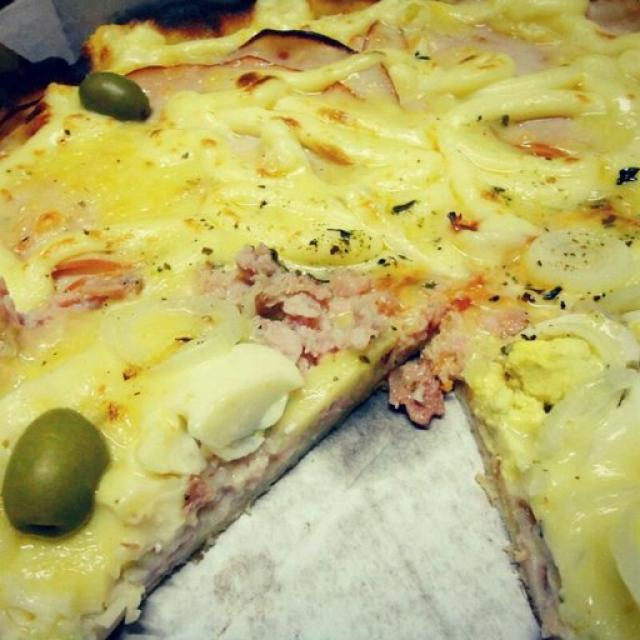Ham: (195, 246, 386, 346), (0, 262, 143, 344), (439, 28, 552, 74), (246, 26, 353, 70), (497, 113, 577, 163), (136, 64, 294, 88), (393, 366, 442, 426), (585, 0, 640, 42)
Olives: (6, 407, 107, 540), (84, 74, 148, 123)
Pizza: (0, 0, 640, 640)
